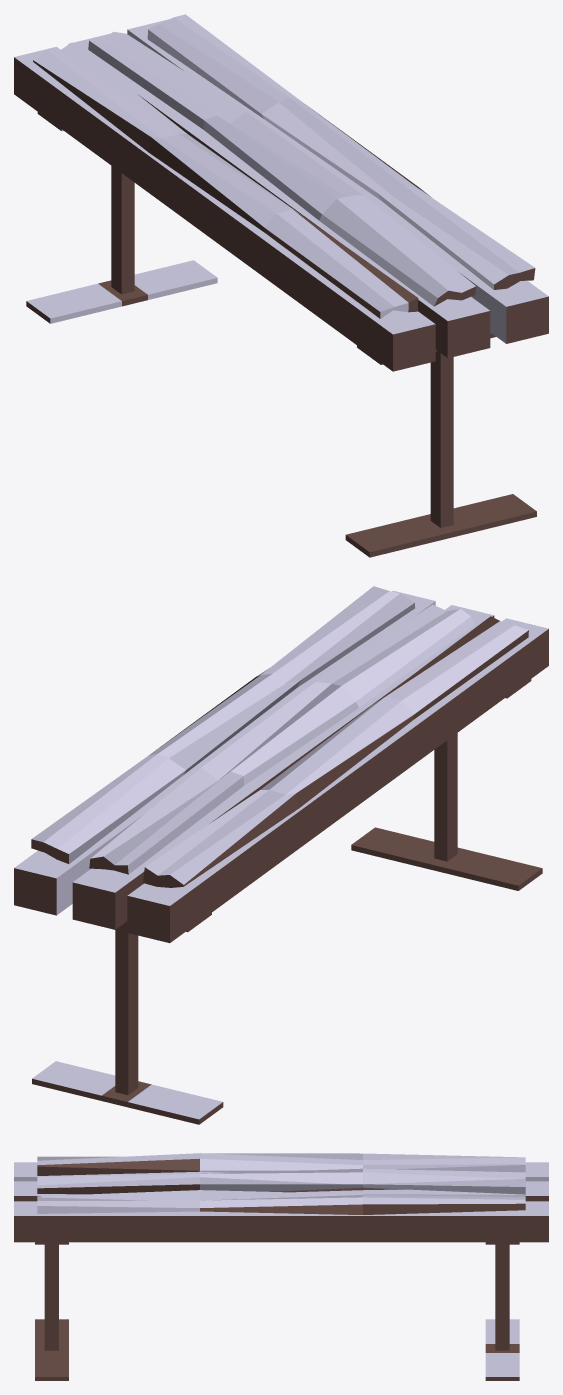
File: chair .fbx
3 views of the same model, one above another, from view 1: azimuth 30°, elevation 25°; view 2: azimuth 150°, elevation 25°; view 3: azimuth 270°, elevation 25° (orthographic). The views are drawn at different scales.
Visible parts, largest first — view 1: FirTree.103; view 2: FirTree.103; view 3: FirTree.103.
Boxes of the visible parts, x1,y1,x2,y2 form: FirTree.103: (14, 14, 548, 557); FirTree.103: (14, 586, 548, 1124); FirTree.103: (14, 1153, 548, 1380).
Bounding box in the file's own units: 45.77 × 65.17 × 177.
